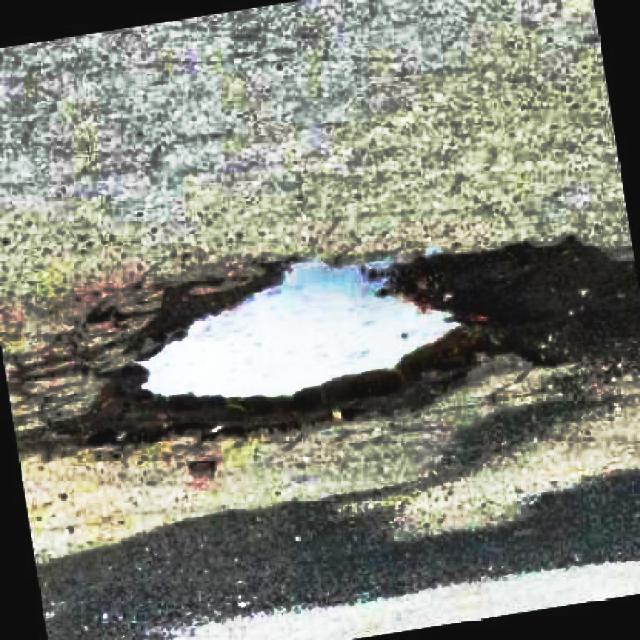pothole: (77, 249, 540, 443)
